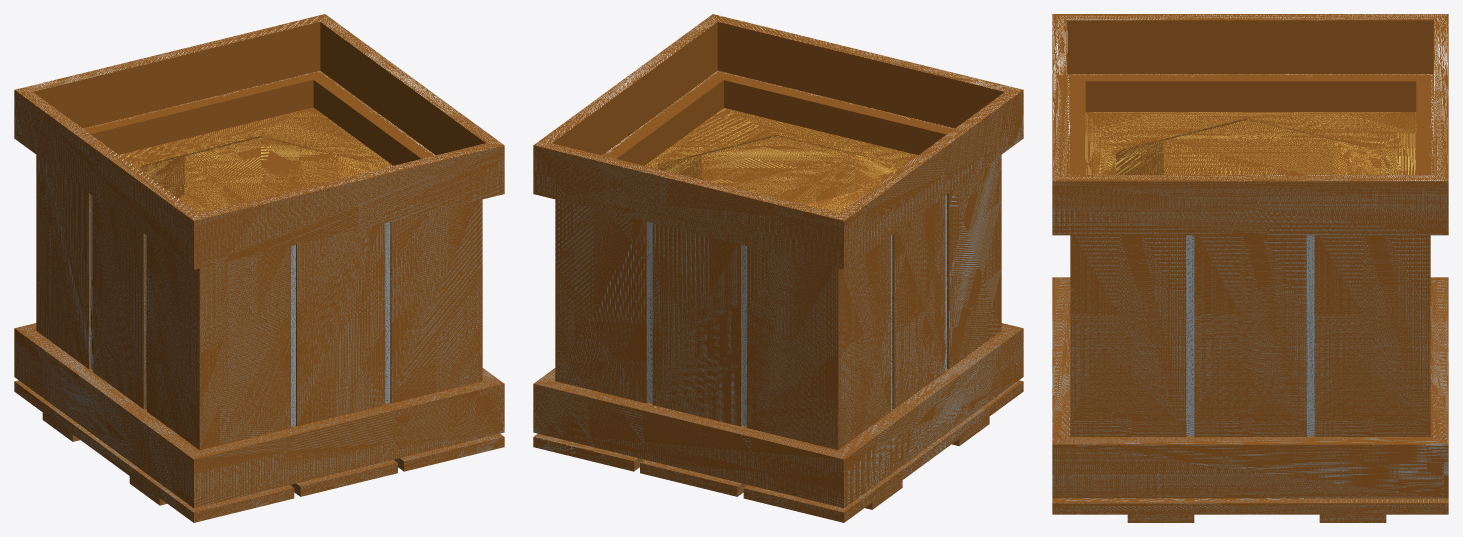
The model's file is Crate_Grain_01.fbx.
The picture shows the model from 3 angles, left to right: view 1: azimuth 30°, elevation 25°; view 2: azimuth 150°, elevation 25°; view 3: azimuth 270°, elevation 25°; orthographic projection. The views are drawn at different scales.
Visible parts, largest first — view 1: Model; view 2: Model; view 3: Model.
Part boxes in pixels (x1=…): Model: x1=14, y1=14, x2=504, y2=522; Model: x1=533, y1=14, x2=1023, y2=522; Model: x1=1052, y1=14, x2=1448, y2=522.
Bounding box in the file's own units: 150 × 143 × 150.
